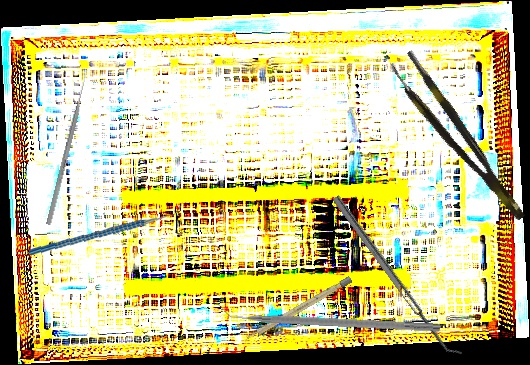Chopper: (28, 191, 184, 266), (215, 300, 442, 332)
Pusher: (46, 71, 89, 226)
Scalpel Handle: (243, 275, 353, 344)
Spatula Surgical: (332, 190, 463, 363)
Tissue Forceps: (387, 49, 528, 232)
